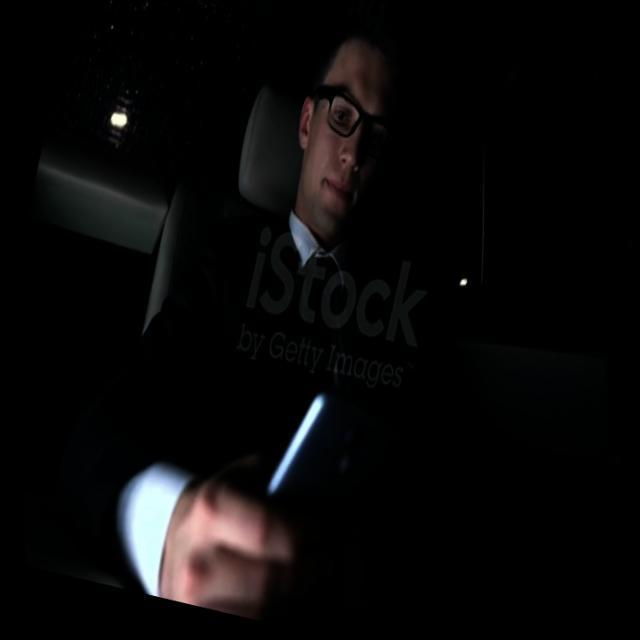PhoneCall: (231, 370, 409, 588)
